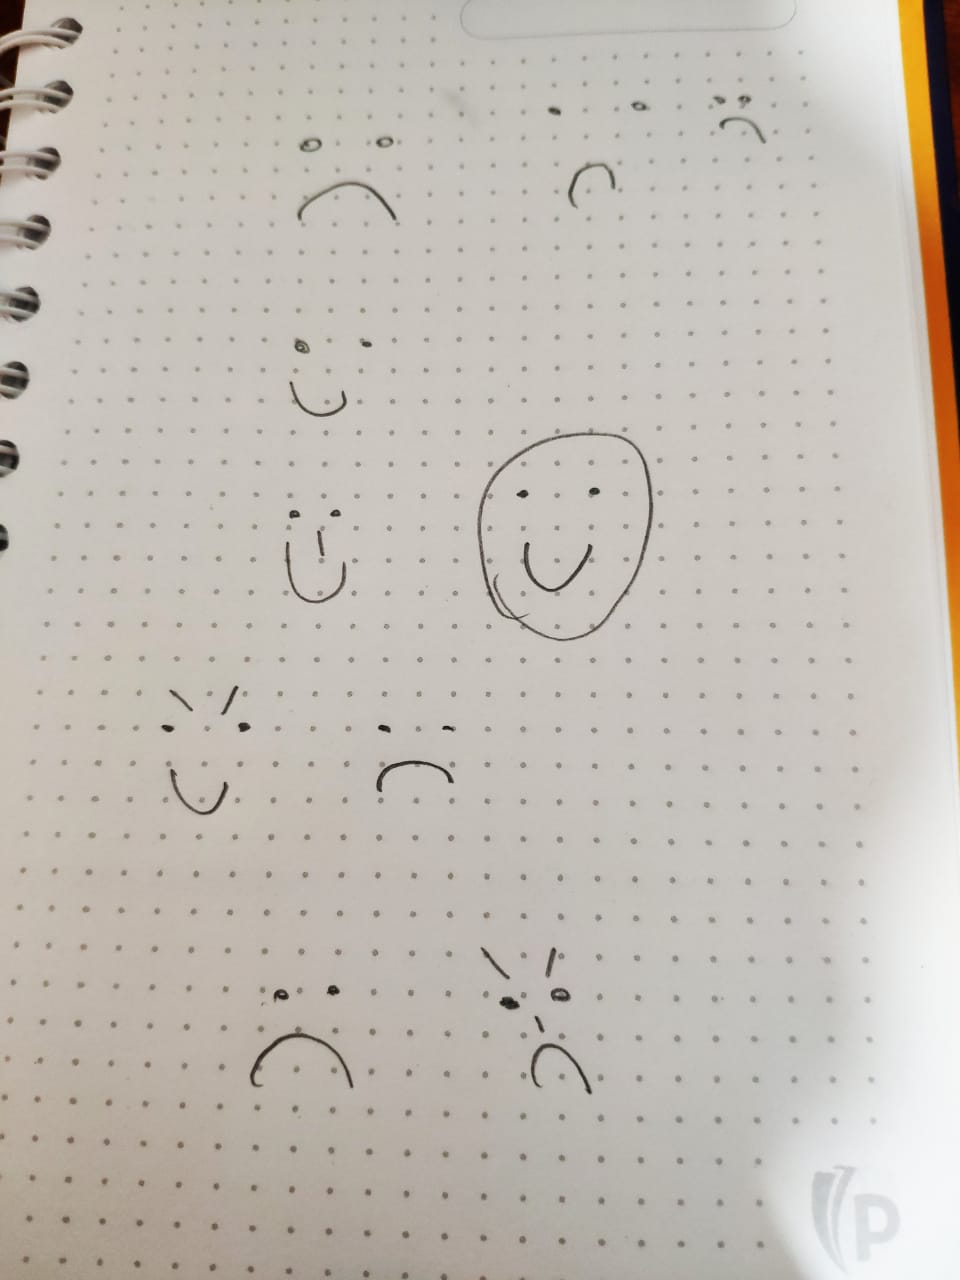triste: (443, 915, 604, 1098), (214, 951, 353, 1115), (522, 88, 657, 253), (280, 112, 423, 249), (371, 692, 467, 806), (696, 76, 771, 153)
